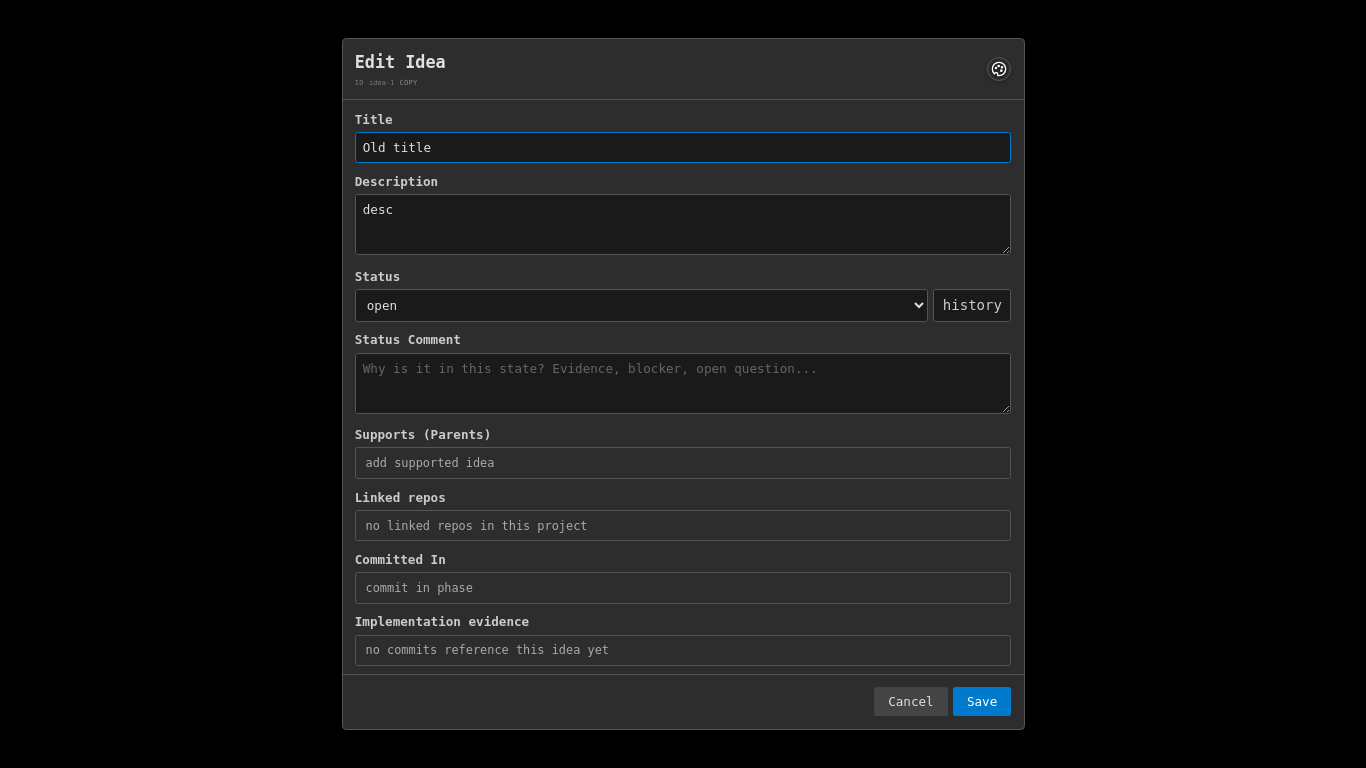
Test: IdeaEditModal archive checkbox › hides the archive checkbox for an ongoing status and shows it after switching to a halted one
The image size is (1366, 768).
Step 1. Select "implemented" in the dropdown with class "status-select" → (642, 305), box [355, 289, 928, 322]
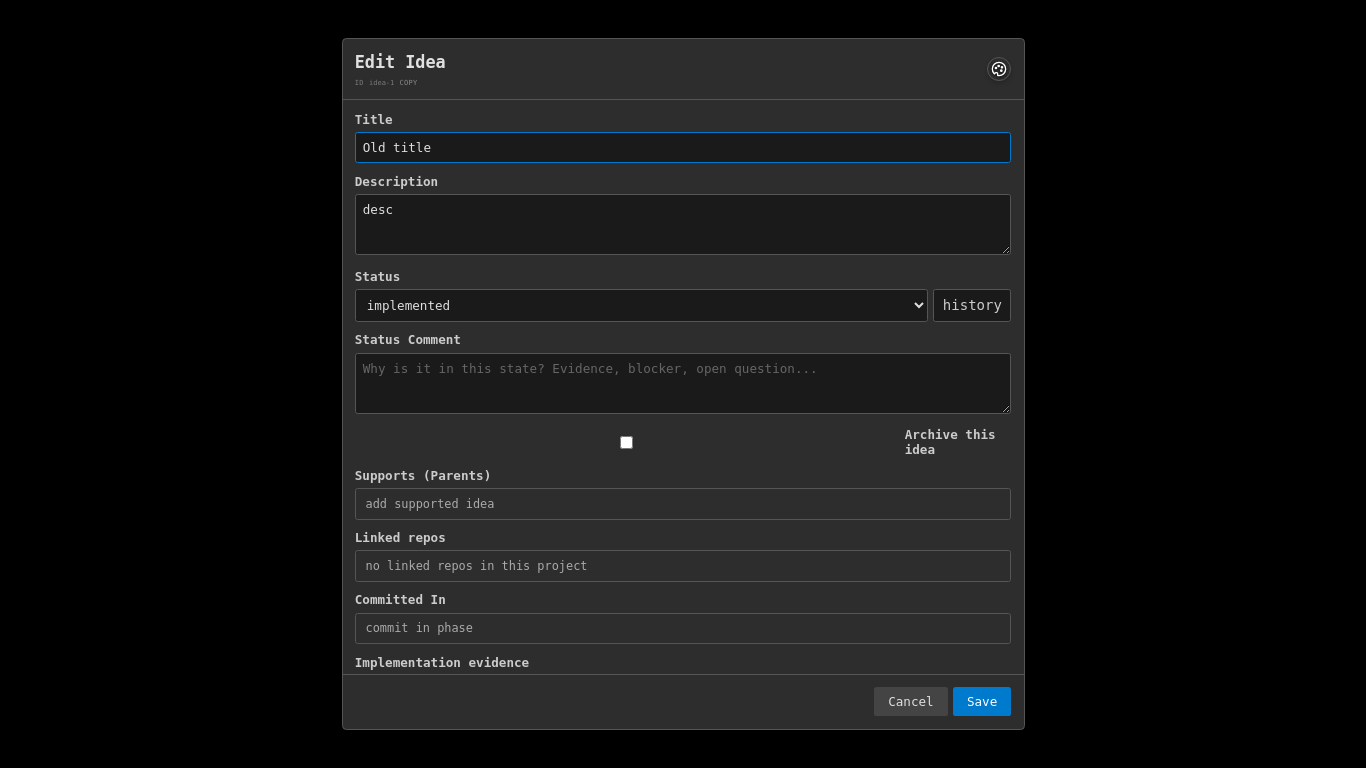
Result: the text "Archive this idea" is shown at [355, 427, 1011, 457]
